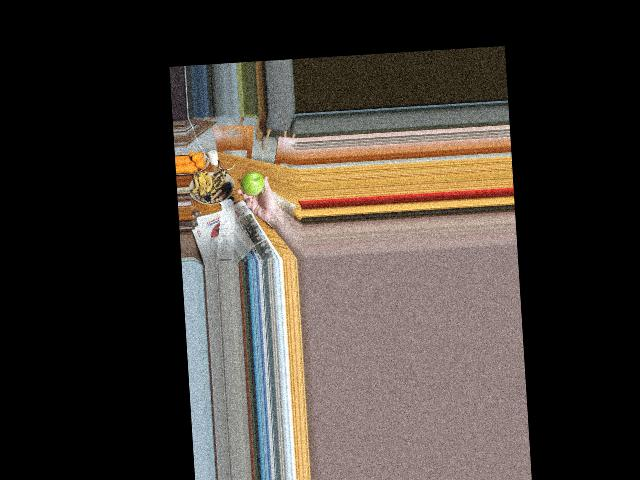apple: (239, 168, 268, 198)
